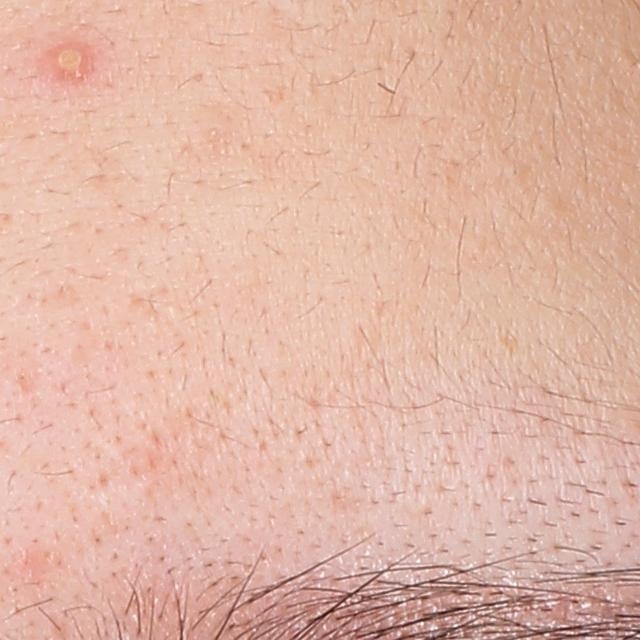pustule: (44, 38, 90, 81)
